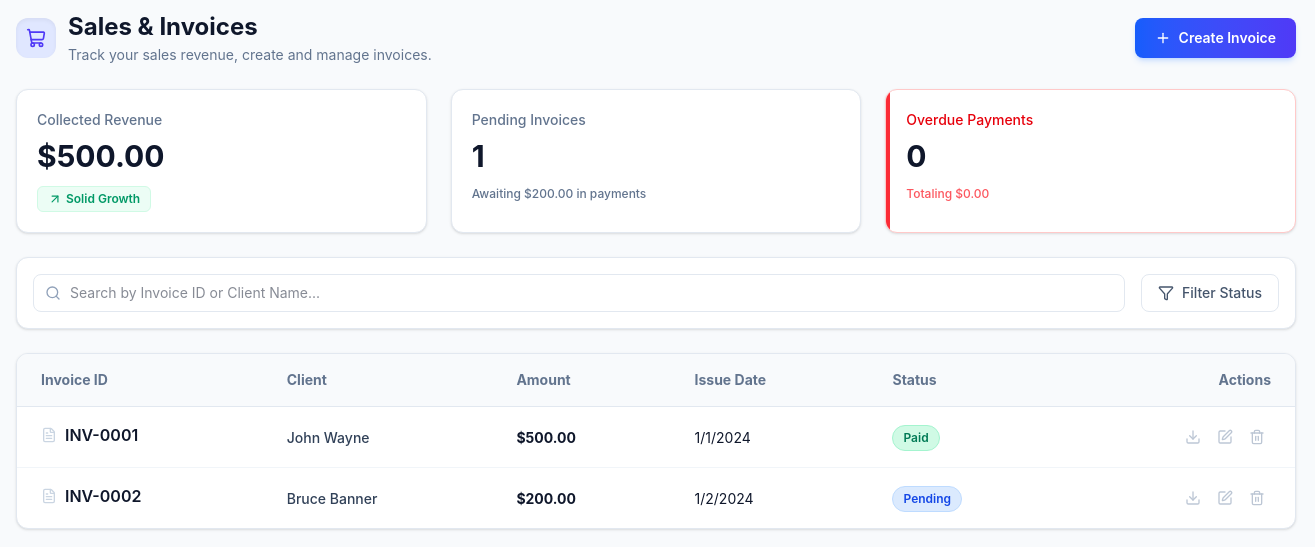
Test case: Sales Component › filters invoices by customer name
Expected: the text "John Wayne" is shown, [287, 429, 370, 446]
Type "Wayne" into the field with placeholder "Search by Invoice ID or Client Name..." at (579, 293), box [33, 274, 1125, 312]
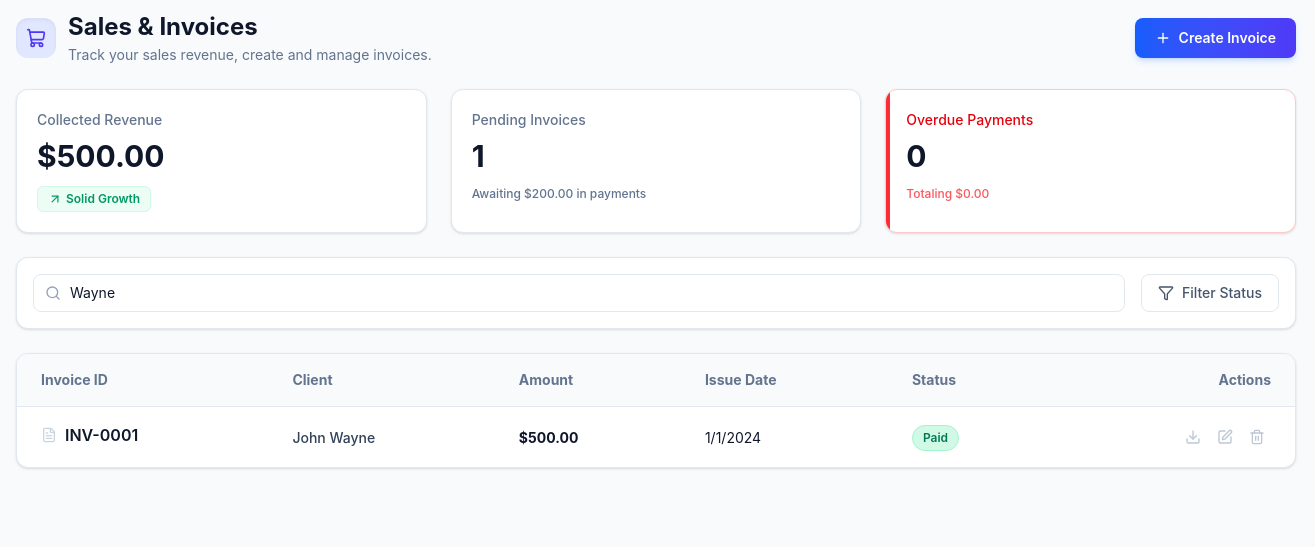
Expected: the text "John Wayne" is shown, [292, 429, 375, 446]
Result: the text "Bruce Banner" is gone
